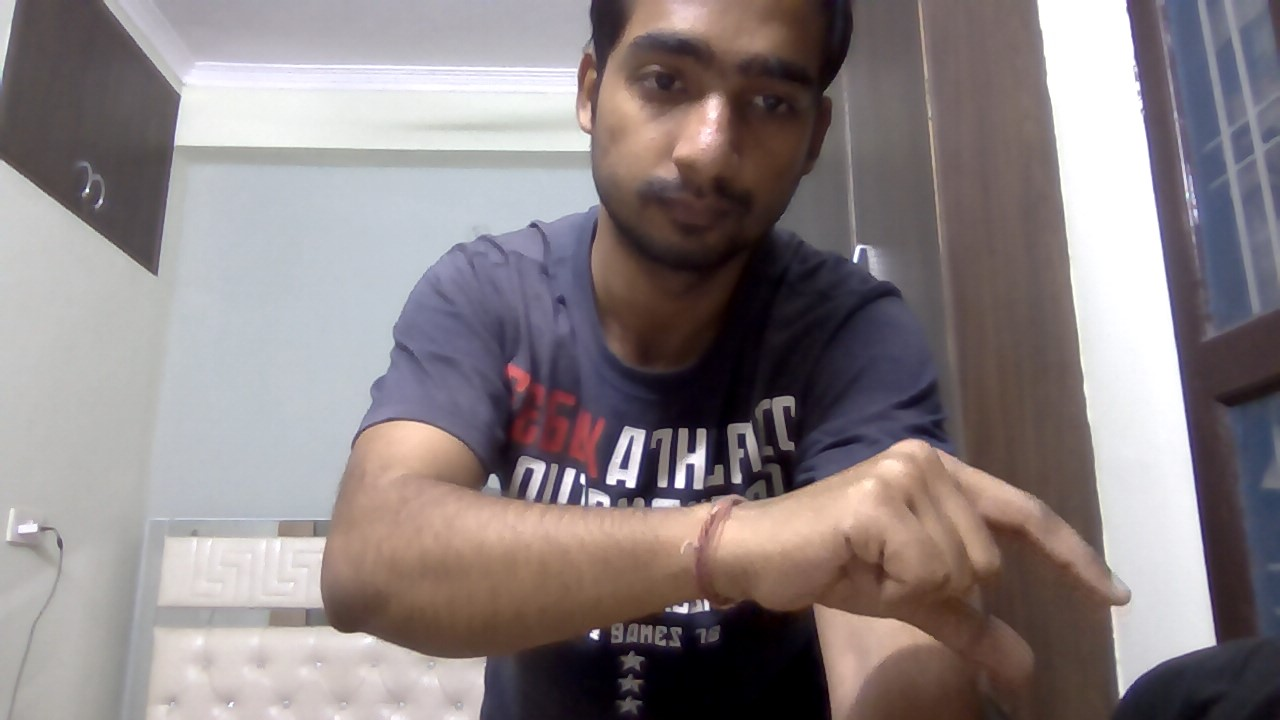Paste: (730, 421, 1137, 710)
